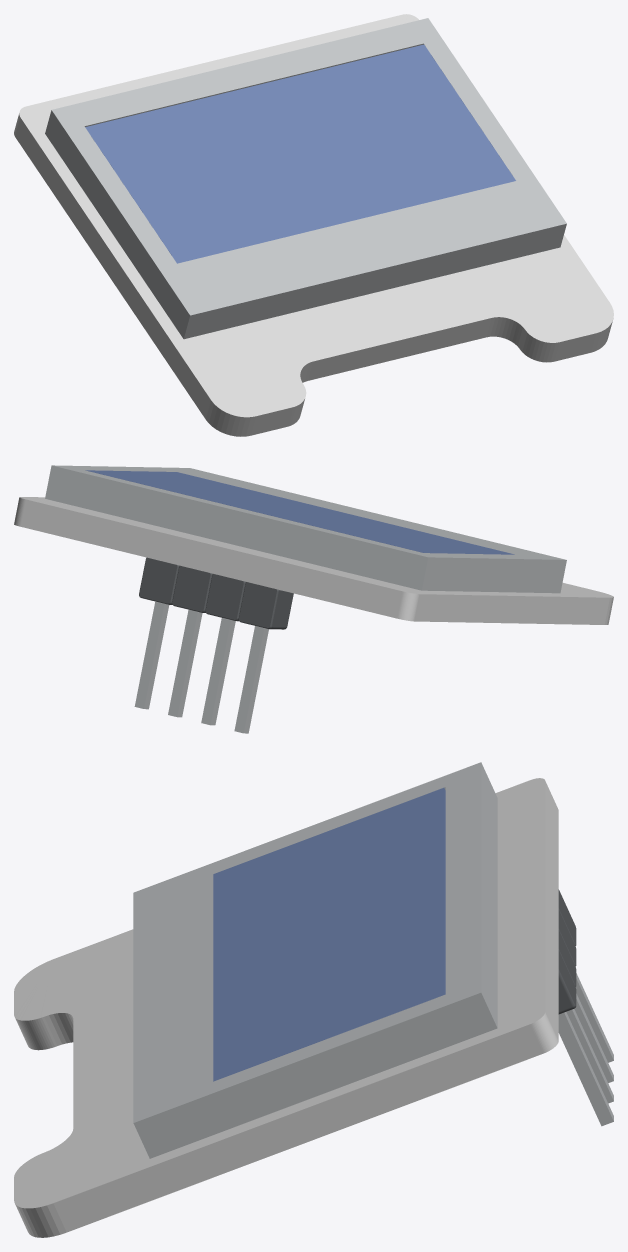
Rendered from oled.glb.
3 views of the same model, one above another, from view 1: azimuth 30°, elevation 25°; view 2: azimuth 150°, elevation 25°; view 3: azimuth 270°, elevation 25° (orthographic). The views are drawn at different scales.
Parts seen in each view (by area): view 1: Mesh_Mesh_head_geo.001_lambert2SG.001; view 2: Mesh_Mesh_head_geo.001_lambert2SG.001; view 3: Mesh_Mesh_head_geo.001_lambert2SG.001.
Boxes of the visible parts, x1,y1,x2,y2 form: Mesh_Mesh_head_geo.001_lambert2SG.001: (14, 14, 613, 436); Mesh_Mesh_head_geo.001_lambert2SG.001: (14, 465, 613, 733); Mesh_Mesh_head_geo.001_lambert2SG.001: (14, 762, 613, 1237).
Bounding box in the file's own units: 0.027 × 0.0128 × 0.0281.
